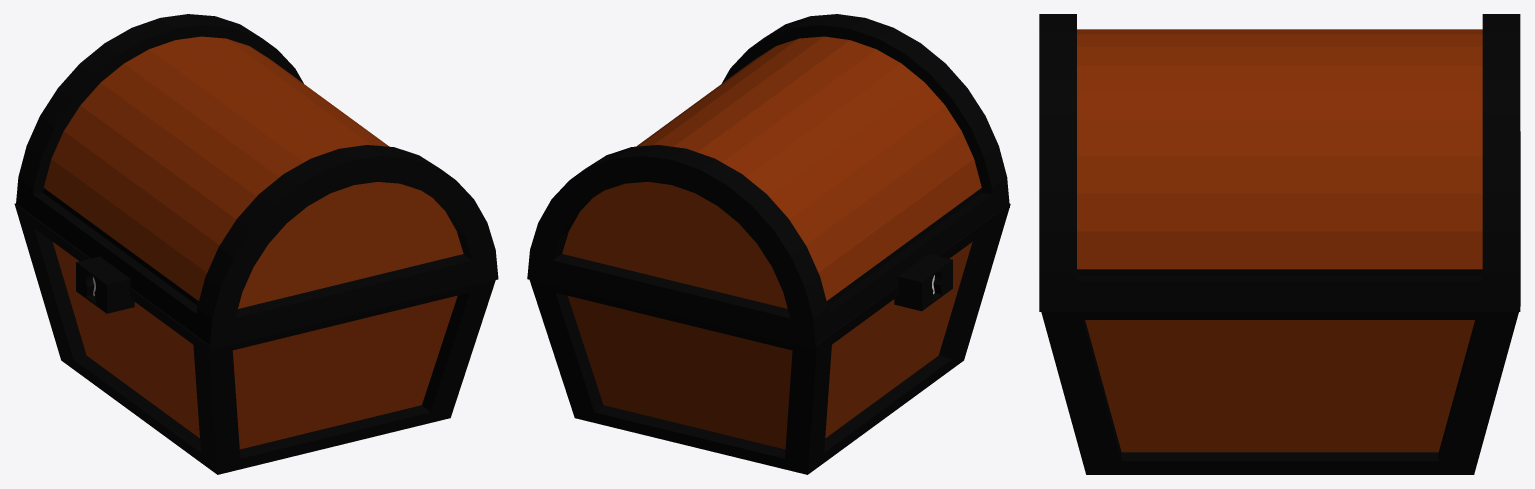
3 views of the same model, side by side, from view 1: azimuth 30°, elevation 25°; view 2: azimuth 150°, elevation 25°; view 3: azimuth 270°, elevation 25° (orthographic). The views are drawn at different scales.
Visible parts, largest first — view 1: Cylinder, Cube.001; view 2: Cylinder, Cube.001; view 3: Cylinder, Cube.001.
Part boxes in pixels (left/top/right/bottom): Cylinder: left=16, top=14, right=498, bottom=349; Cube.001: left=14, top=203, right=495, bottom=474; Cylinder: left=527, top=14, right=1009, bottom=349; Cube.001: left=528, top=203, right=1010, bottom=474; Cylinder: left=1039, top=14, right=1520, bottom=311; Cube.001: left=1041, top=131, right=1520, bottom=474.
Size of the model in its own units: 39.35 by 36.22 by 42.44.
